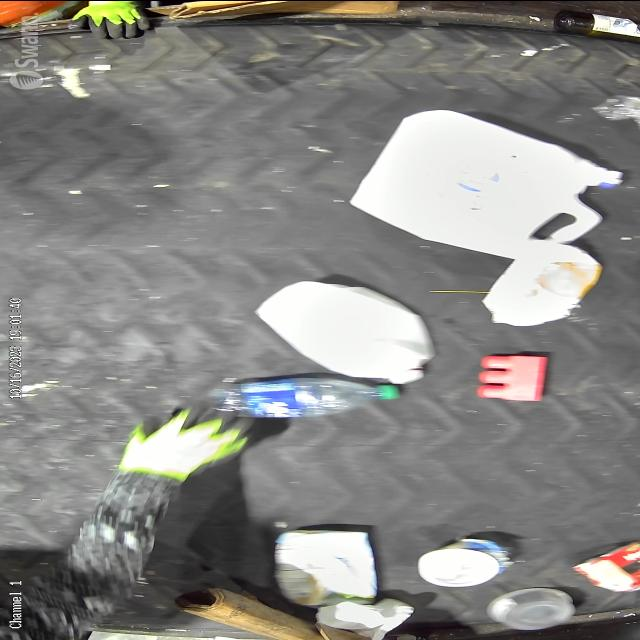can: (418, 536, 510, 586), (572, 540, 640, 592)
milk_jug: (346, 110, 625, 260), (256, 278, 434, 382), (484, 242, 602, 326), (274, 528, 376, 605)
plastic_bottle: (216, 375, 402, 417)
